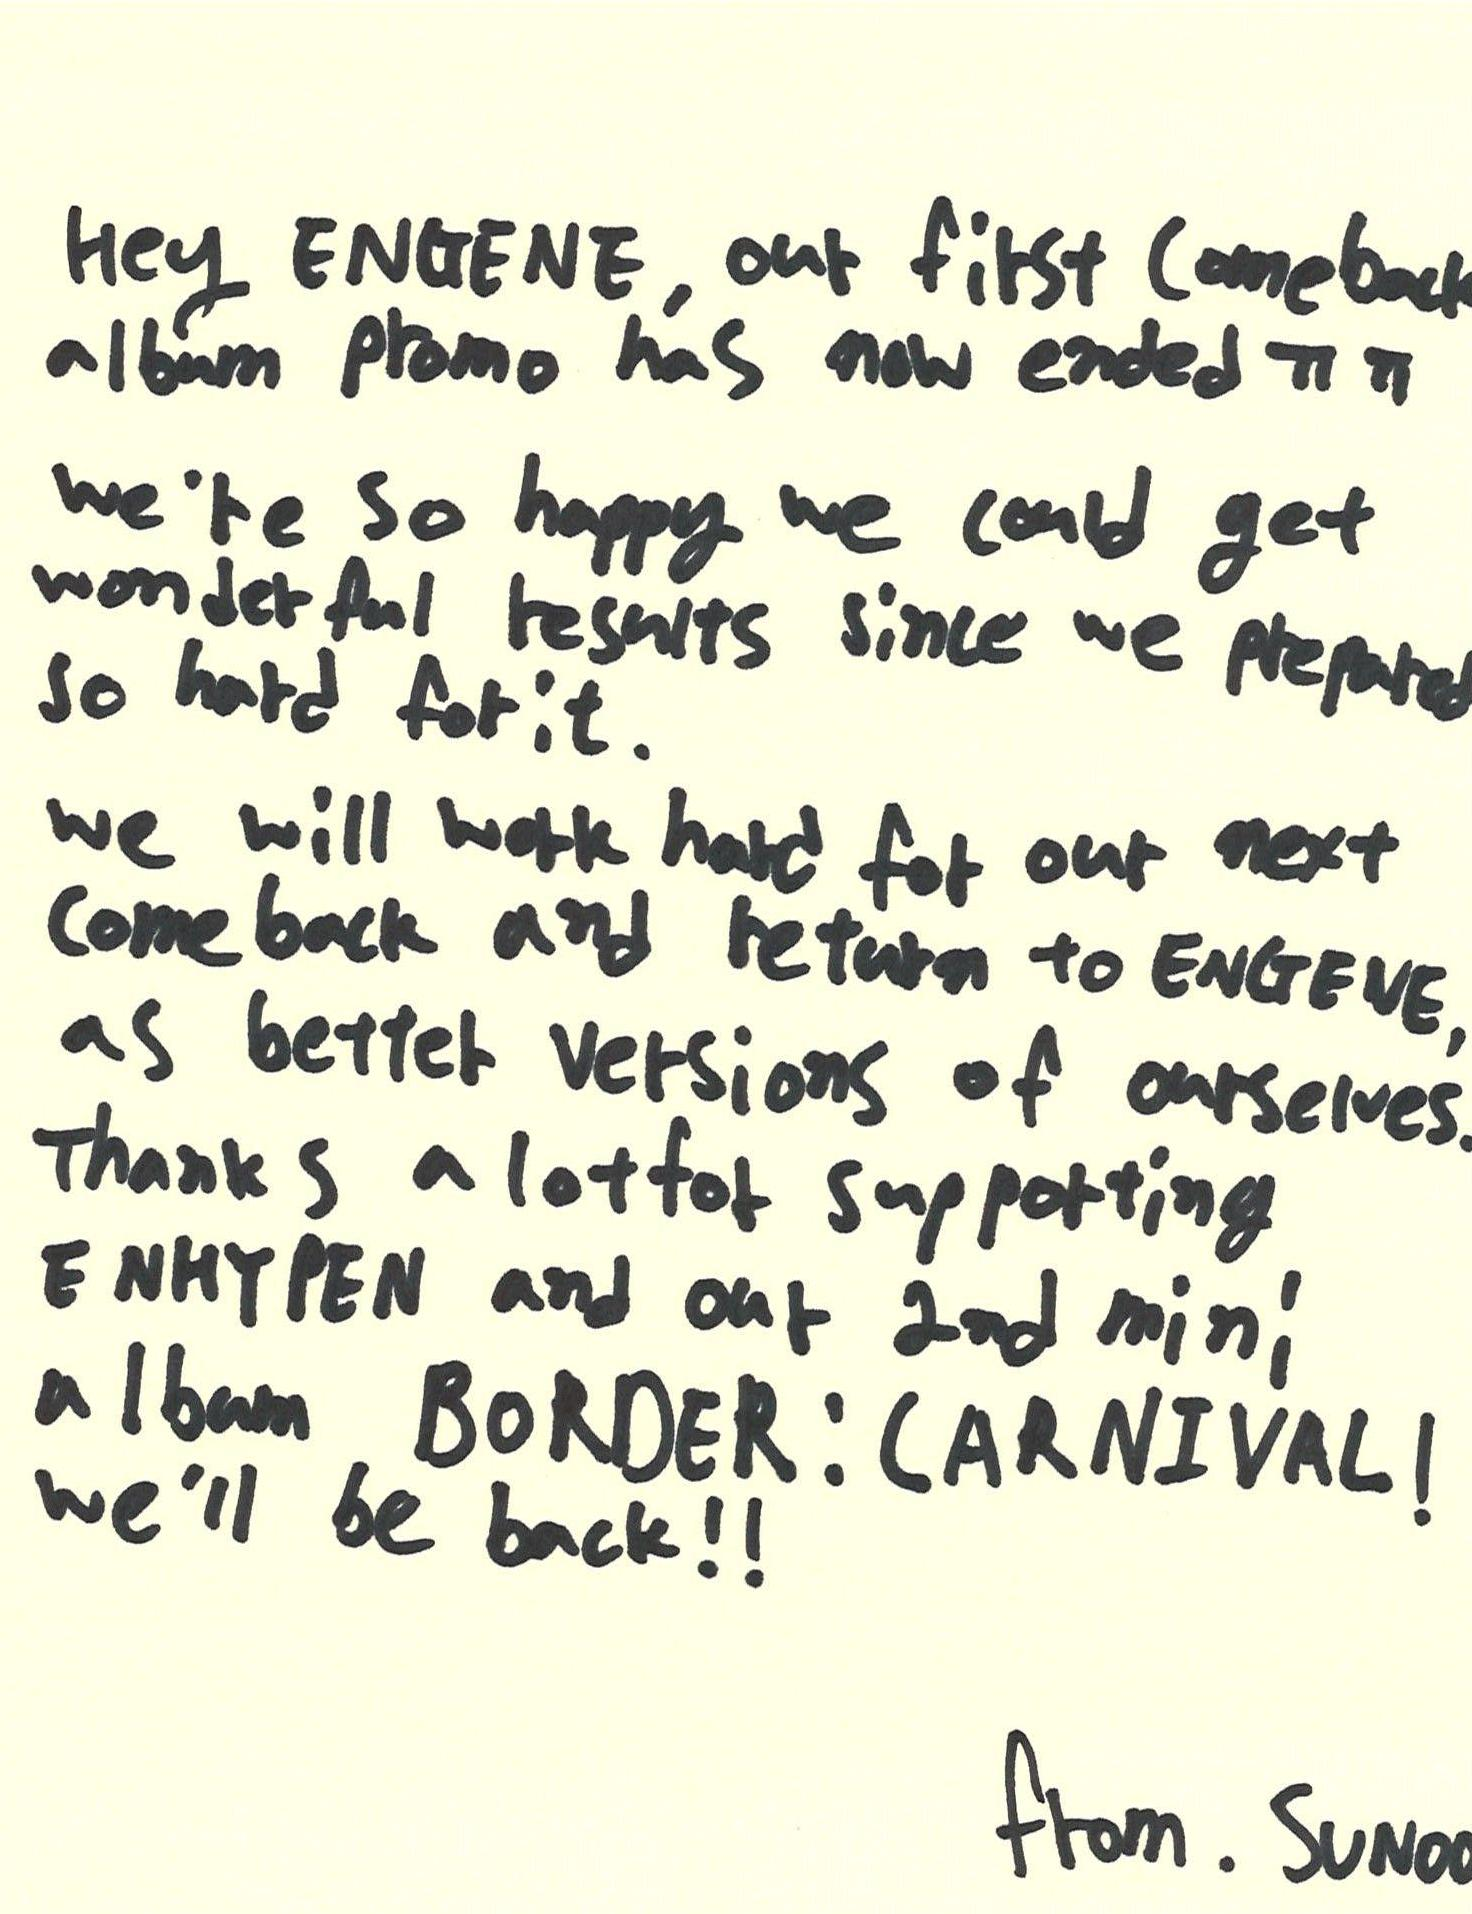text: (20, 1337, 1458, 1535), (14, 546, 1472, 731), (49, 979, 1472, 1161), (29, 884, 1472, 1059), (26, 1096, 1283, 1274), (29, 1228, 1319, 1398), (57, 186, 1472, 337), (46, 442, 1385, 595), (37, 778, 1412, 915), (32, 308, 1429, 414), (23, 1449, 779, 1597), (20, 629, 662, 778), (980, 1719, 1472, 1892)
